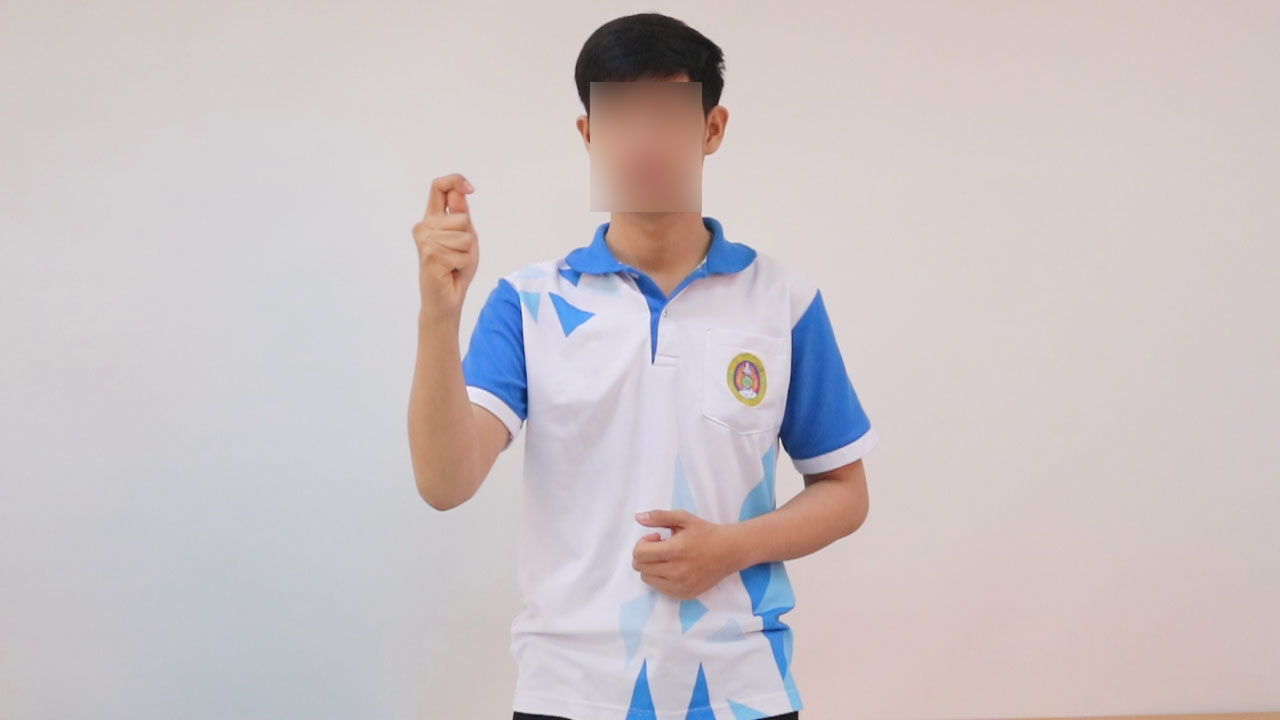or: (411, 168, 483, 314)
